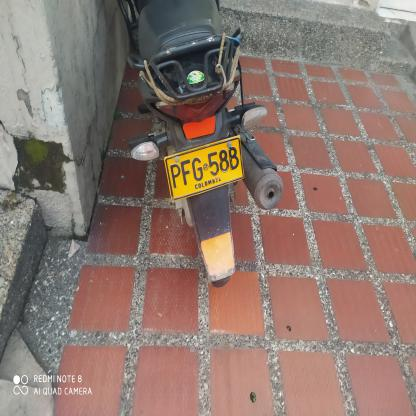placa: (157, 135, 255, 203)
